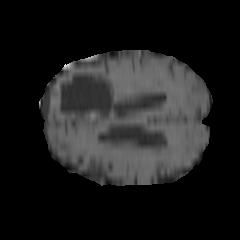glioma: (48, 68, 176, 173)
